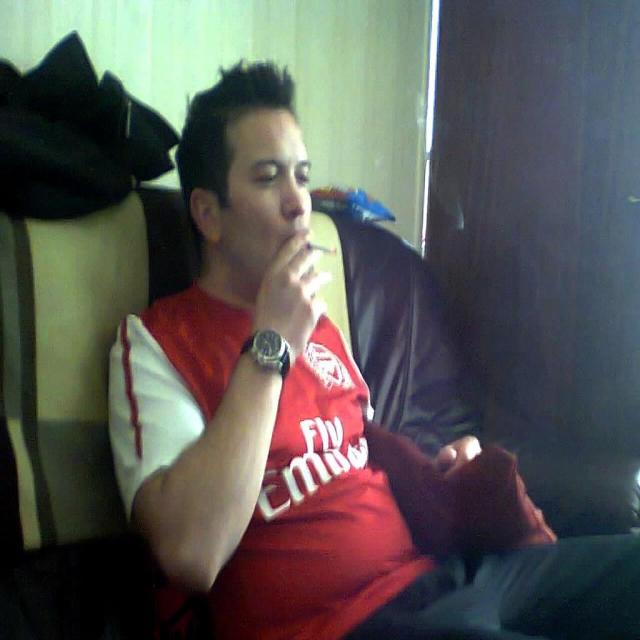Сигарета: (306, 239, 338, 256)
Тело: (111, 66, 482, 640)
